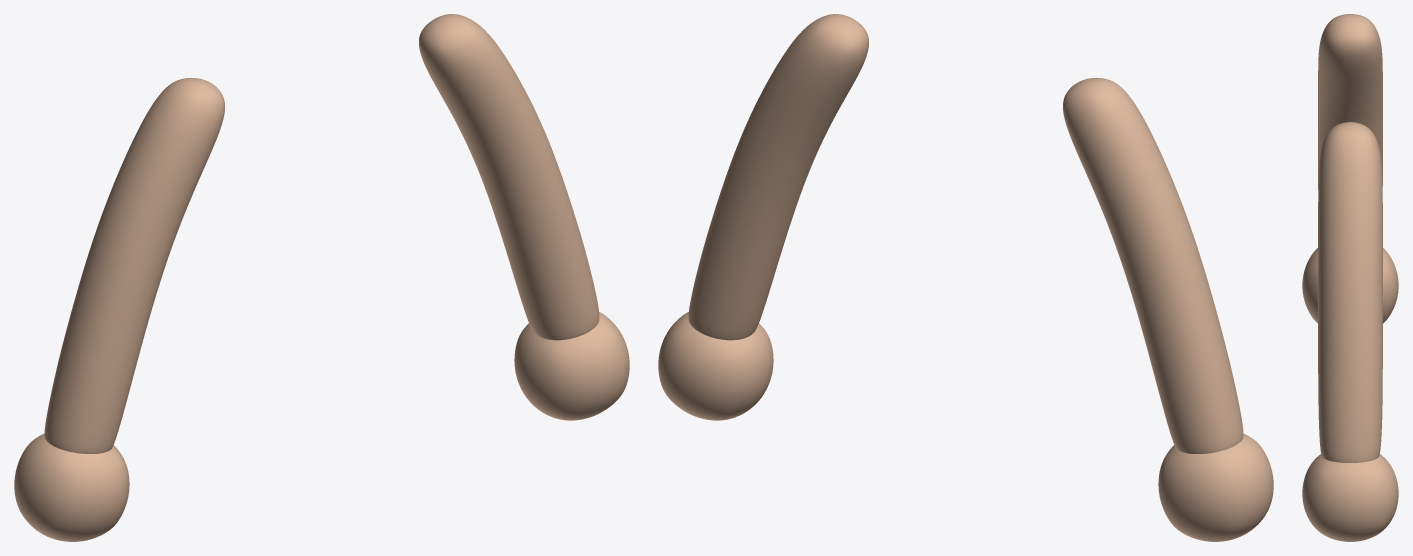
Rendered from BRAZOS_M.glb.
3 renders of one model, left to right at view 1: azimuth 30°, elevation 25°; view 2: azimuth 150°, elevation 25°; view 3: azimuth 270°, elevation 25°, orthographic. The views are drawn at different scales.
Parts seen in each view (by area): view 1: Cube.066, Cube.068; view 2: Cube.066, Cube.068; view 3: Cube.066, Cube.068.
Part boxes in pixels (x1,y1,x2,y2): Cube.066: (44,14,599,453); Cube.068: (14,312,629,541); Cube.066: (688,14,1243,453); Cube.068: (658,312,1273,541); Cube.066: (1318,14,1382,462); Cube.068: (1302,248,1398,541).
Size of the model in its own units: 3.58 by 2.43 by 0.5849.
